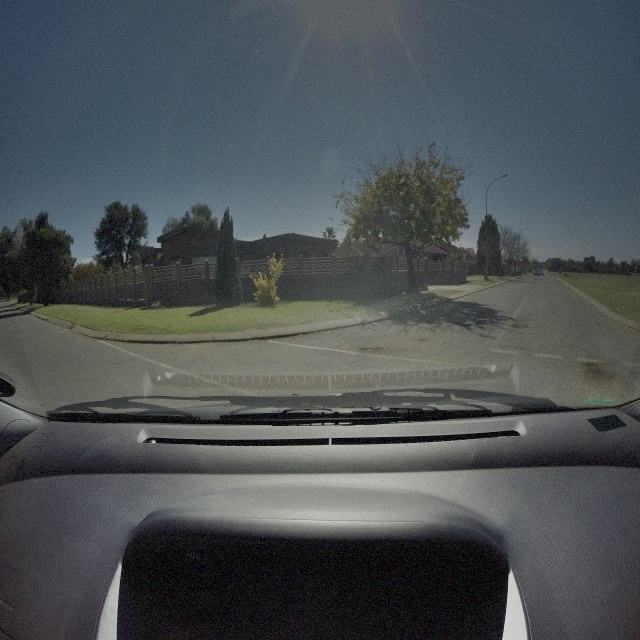pothole: (582, 365, 617, 392), (358, 348, 388, 356), (512, 322, 530, 331), (418, 337, 428, 343)
